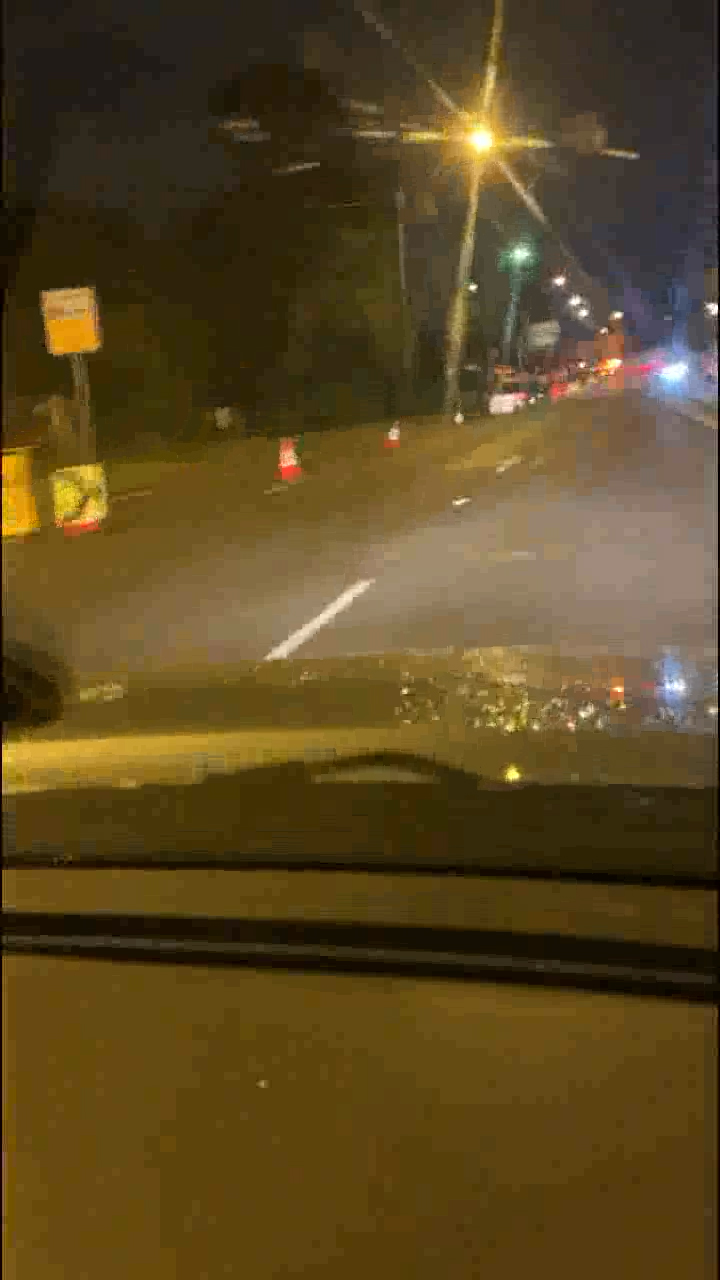road cone: (275, 434, 299, 482), (387, 419, 397, 444)
road works sign board: (52, 471, 114, 523)
